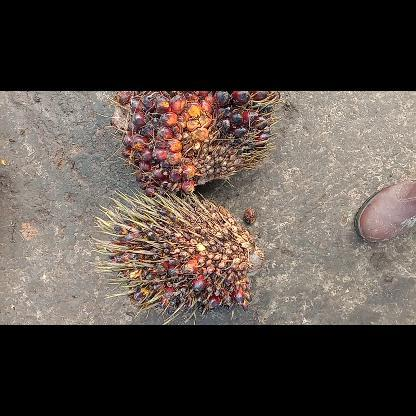Kurang masak: (110, 90, 282, 196)
TBS abnormal: (88, 188, 264, 324)
